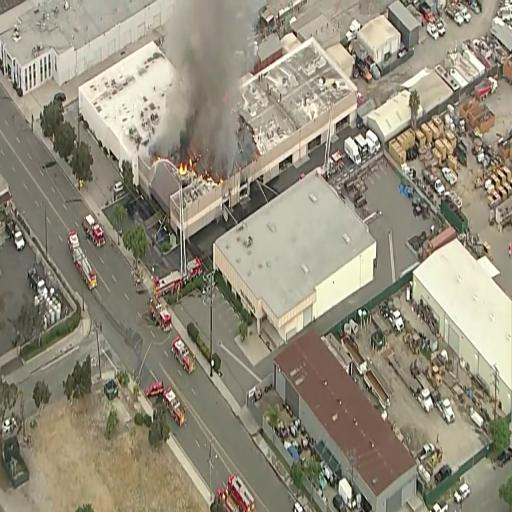smoke: (188, 5, 238, 139)
